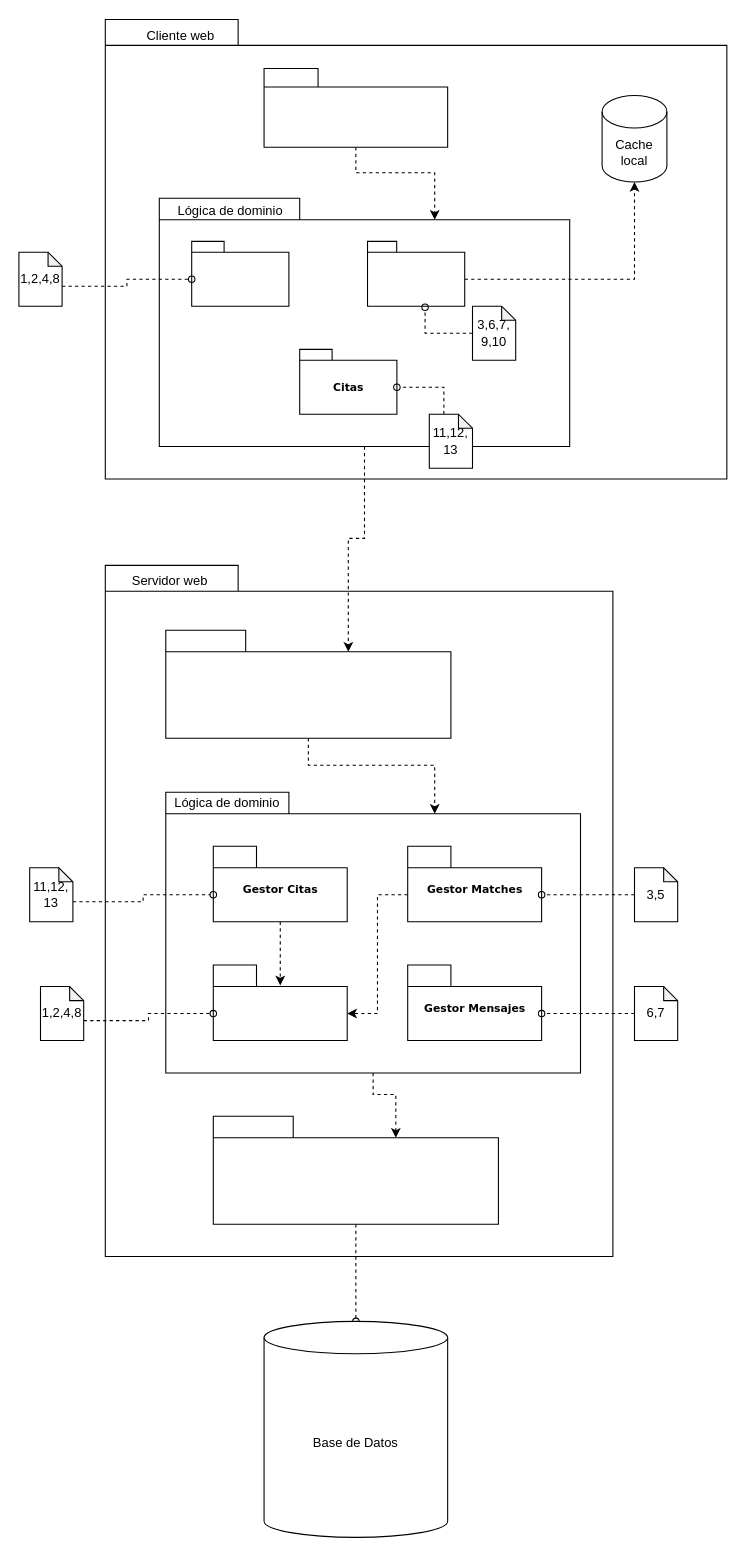
The diagram is 746 pixels wide and 1556 high, and some of its shapes have lost their labels. Here are the shapes that lost their labels. From the top down, the centre of each, then its label:
[355,107]: UI y lógica de presentación
[240,273]: Perfiles
[415,273]: Chat
[308,683]: API web
[279,1002]: Gestor Cuentas
[355,1169]: Acceso a datos
